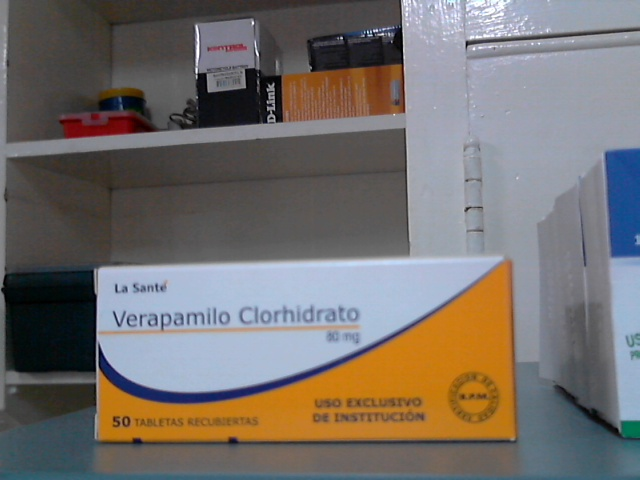LaSante: (98, 266, 516, 440)
